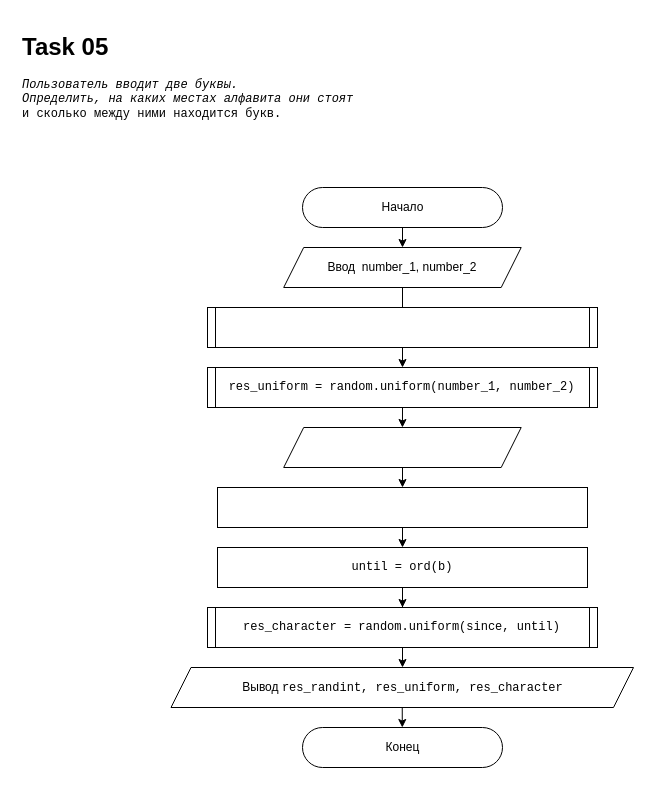
Image size: 651x785. Some labels were removed from this diagram. The centre of each missing label's shape, as x and y in pixels:
res_randint = random.randint(number_1, number_2): point (402, 327)
since = ord(a): point (402, 507)
Ввод a, b: point (402, 447)
